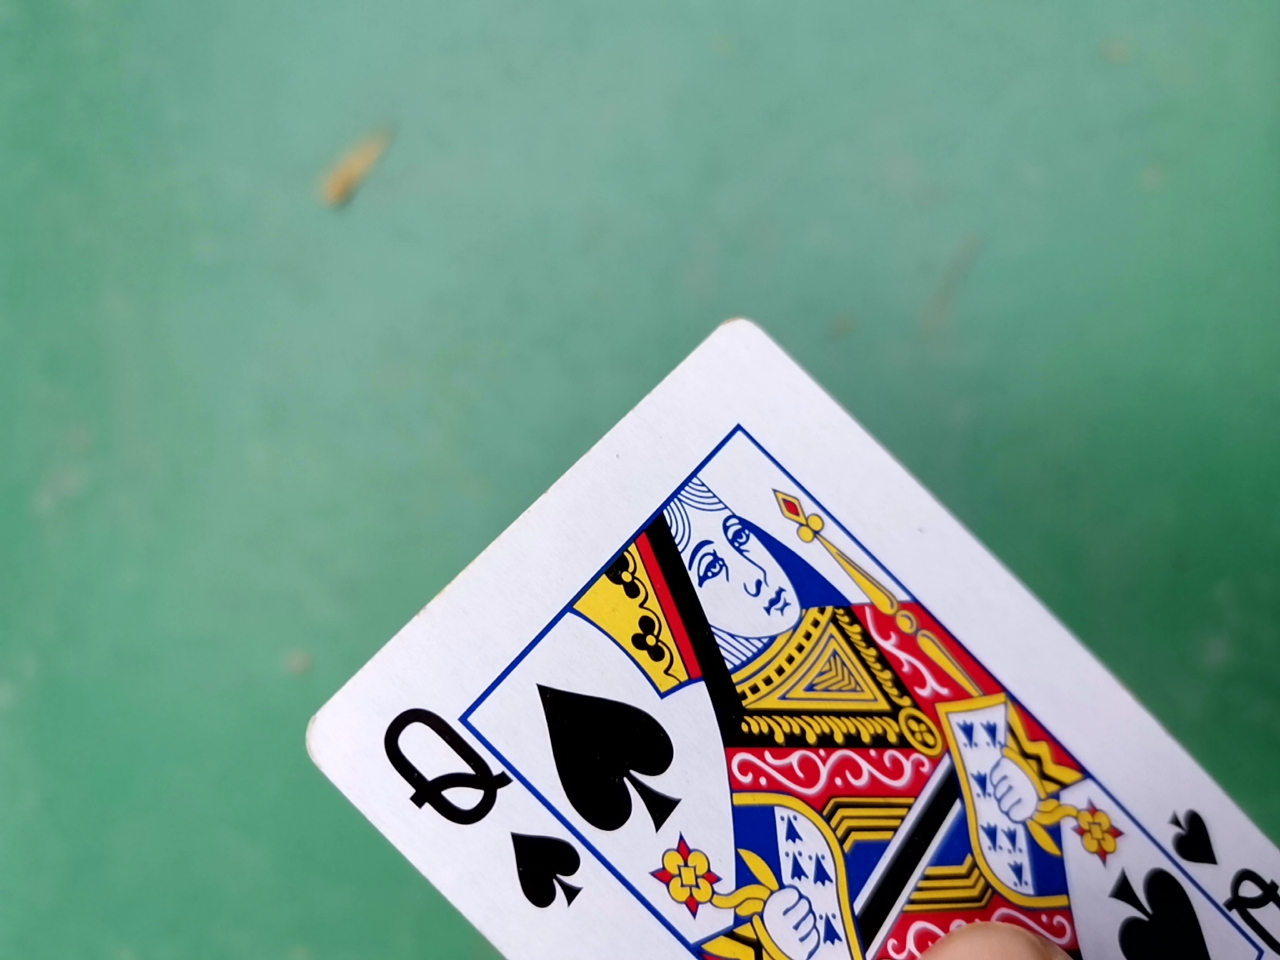ht q: (286, 276, 1263, 947)
